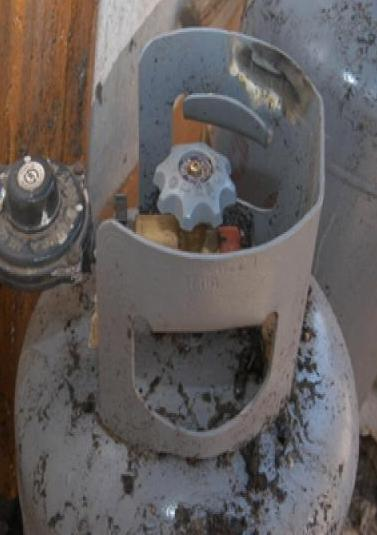cylinder: (1, 0, 377, 535)
